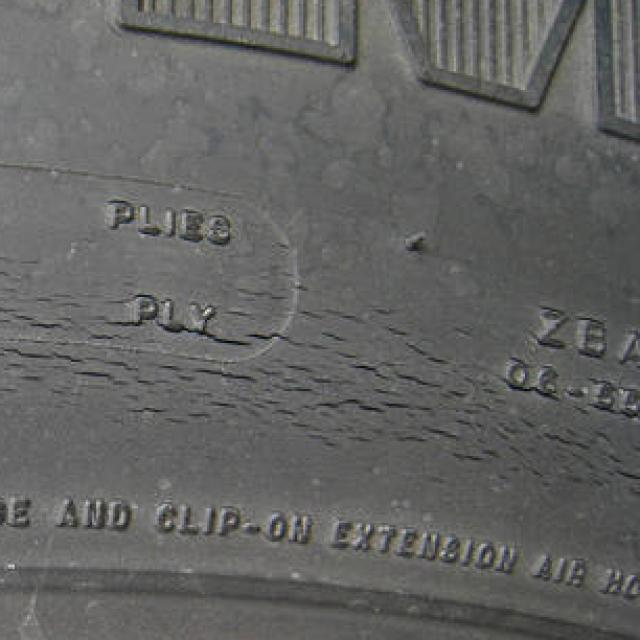Cracks: (0, 233, 638, 508)
Non-defective: (0, 0, 640, 218), (0, 535, 640, 640)
